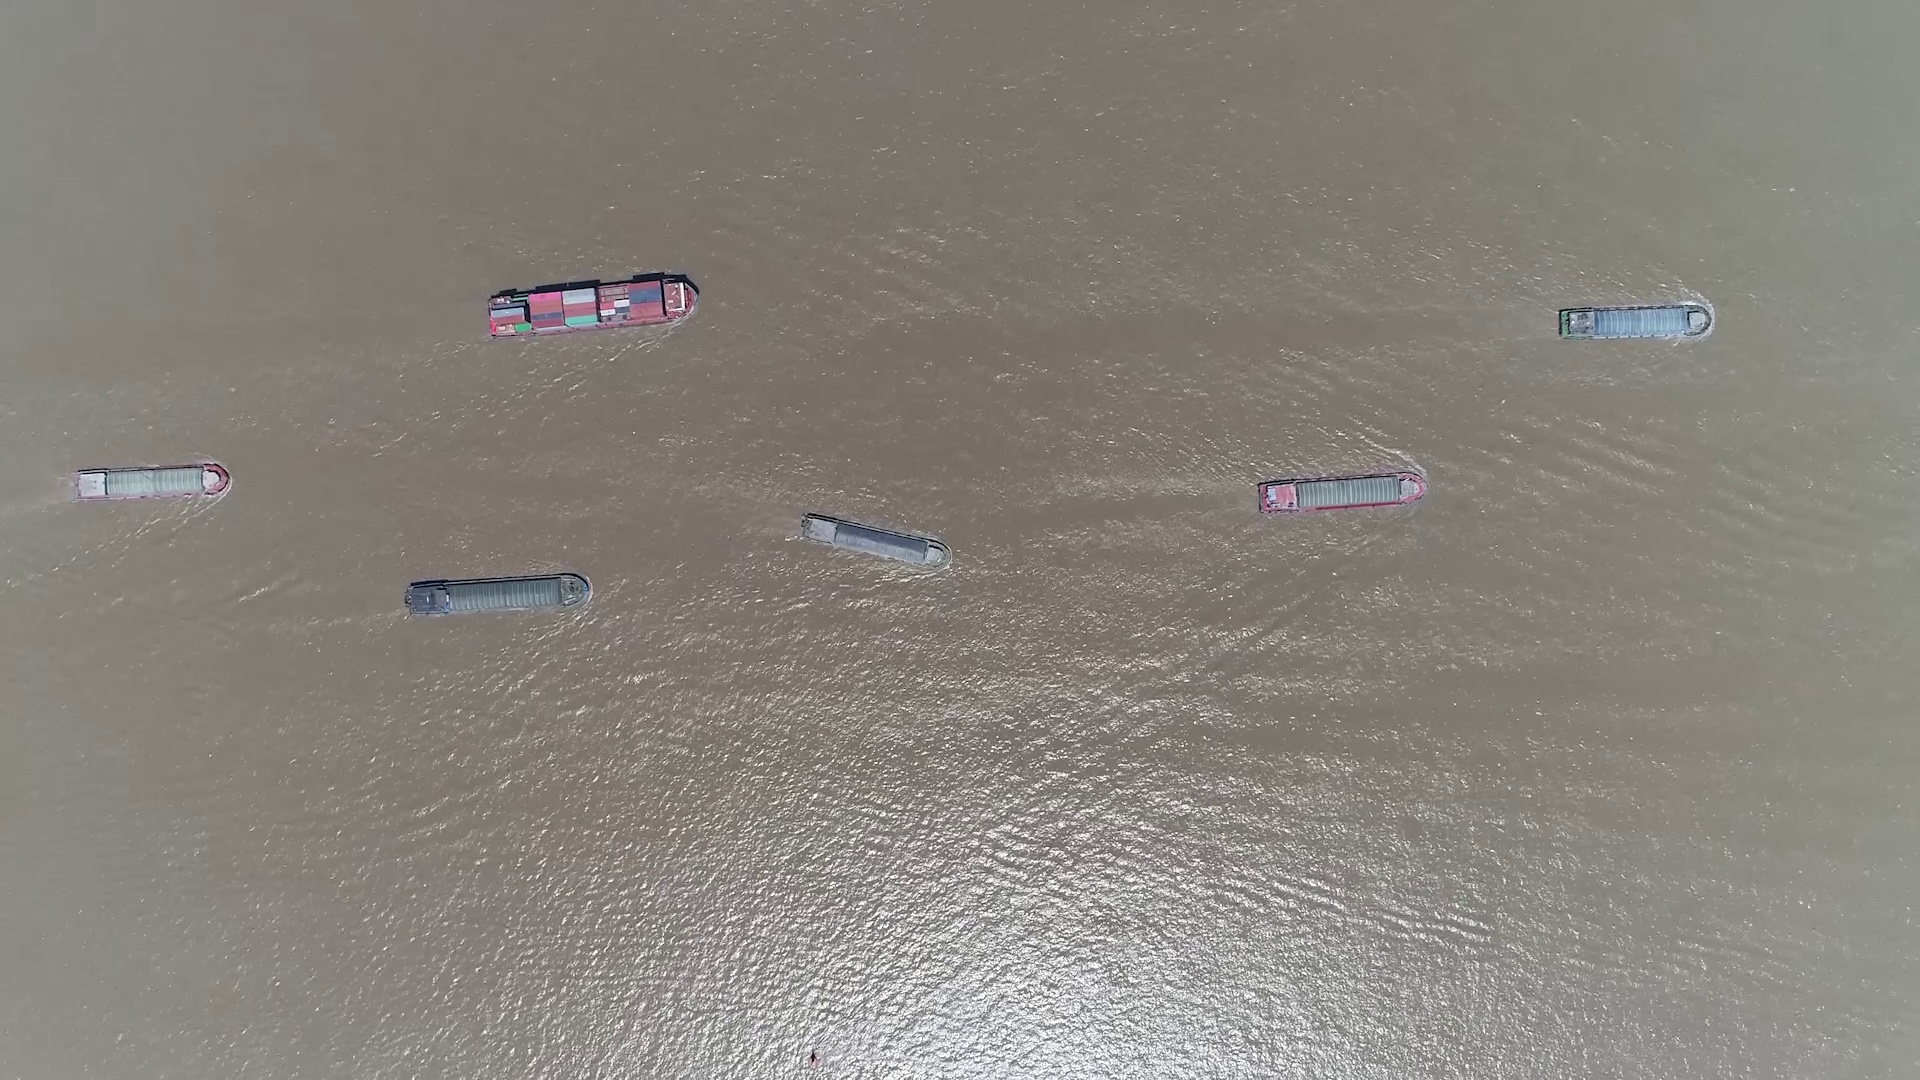ship: (487, 276, 696, 338), (798, 513, 949, 568), (405, 574, 591, 617), (1255, 469, 1427, 514), (75, 464, 229, 500), (1557, 305, 1710, 340)
